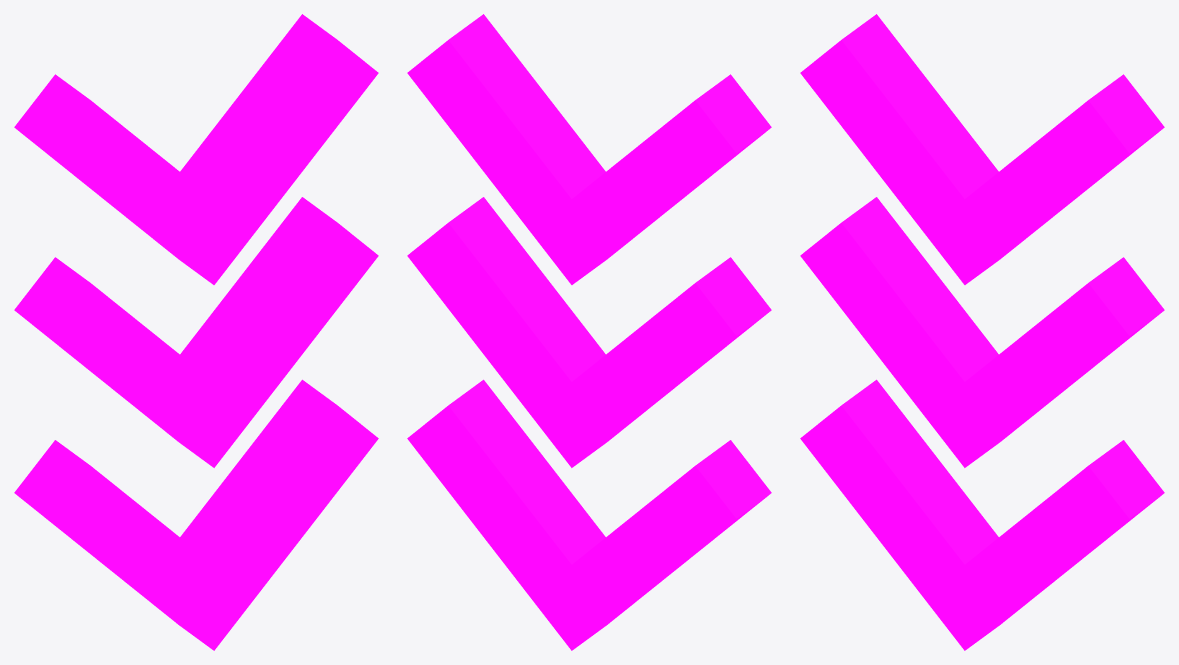
Rendered from AnimatedIndicatorArrowPink.glb.
3 renders of one model, left to right at view 1: azimuth 30°, elevation 25°; view 2: azimuth 150°, elevation 25°; view 3: azimuth 330°, elevation 25°, orthographic.
Visible parts, largest first — view 1: Plane; view 2: Plane; view 3: Plane.
Part boxes in pixels (x1=…): Plane: x1=14, y1=14, x2=378, y2=650; Plane: x1=407, y1=14, x2=771, y2=650; Plane: x1=800, y1=14, x2=1164, y2=650.
Size of the model in its own units: 0.3394 by 0.5721 by 0.0632.
